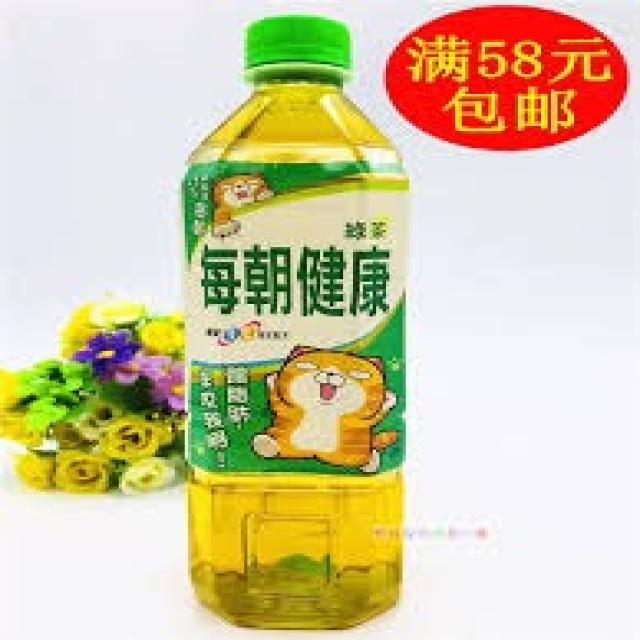MeiChou_GreenTea: (177, 15, 414, 635)
